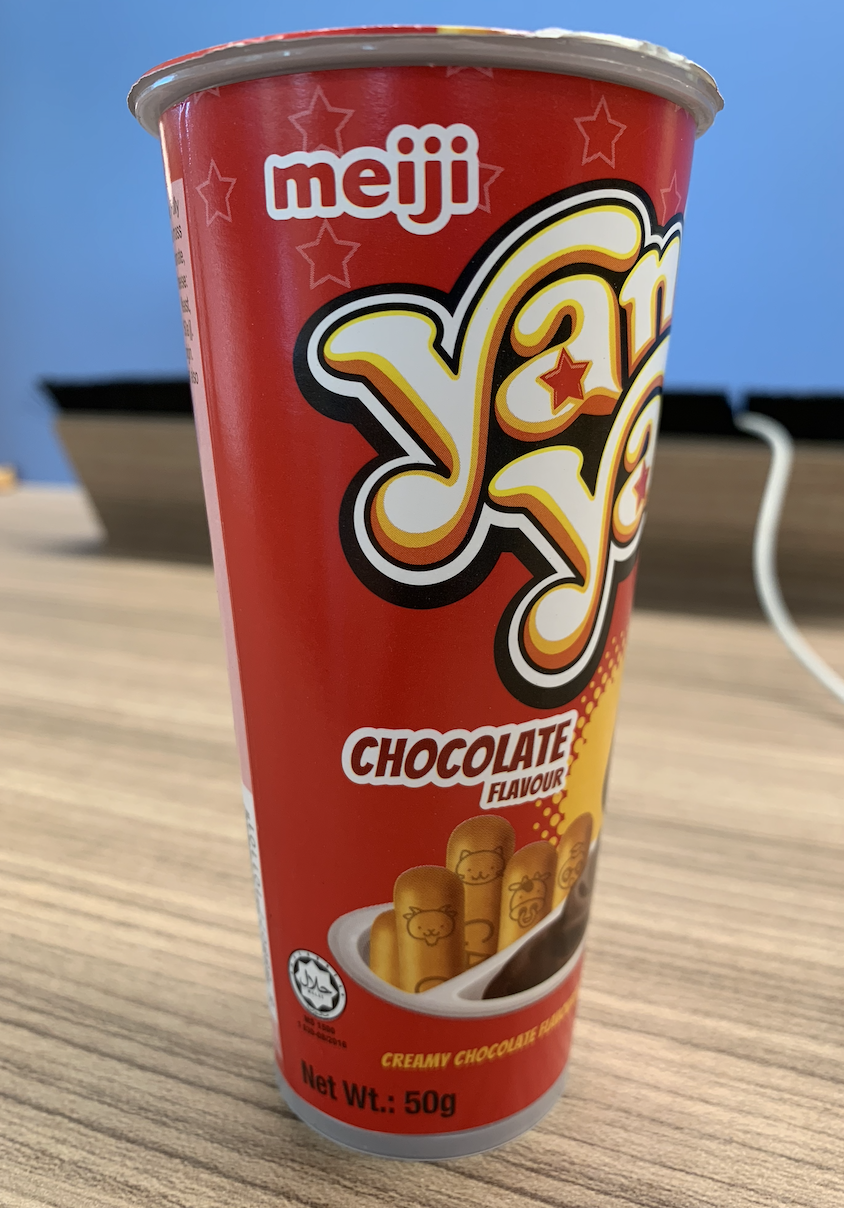cookies_1g-99g: (254, 84, 592, 1132)
